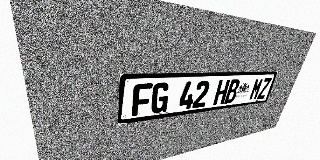2: (192, 80, 211, 108)
4: (178, 81, 197, 110)
B: (224, 79, 241, 104)
F: (131, 83, 153, 116)
G: (150, 82, 170, 114)
H: (213, 79, 230, 105)
M: (248, 78, 264, 100)
Z: (257, 78, 272, 99)
